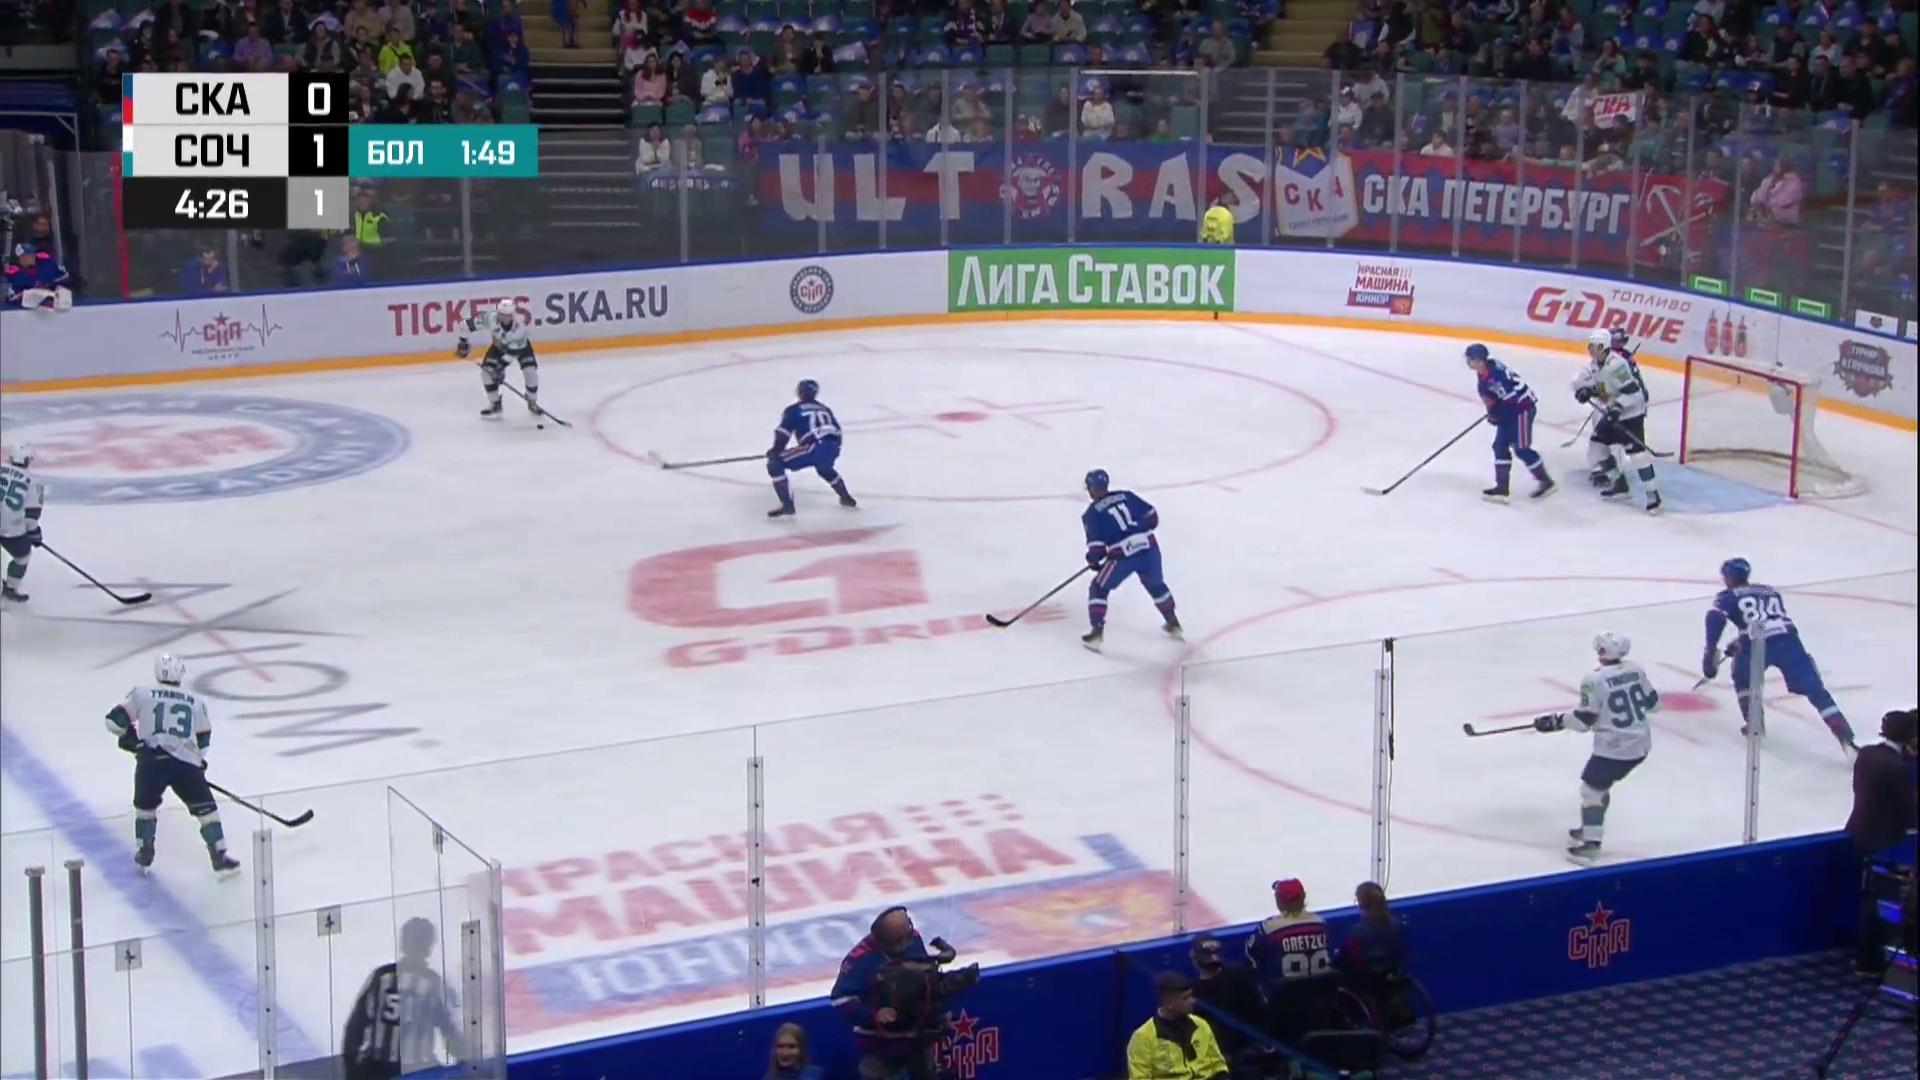ball: (537, 423, 545, 430)
